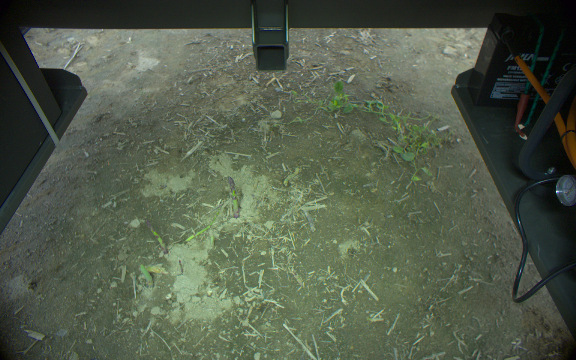aspa: (185, 205, 223, 243), (143, 218, 166, 254), (226, 174, 240, 220), (137, 262, 154, 289), (209, 232, 216, 248)
